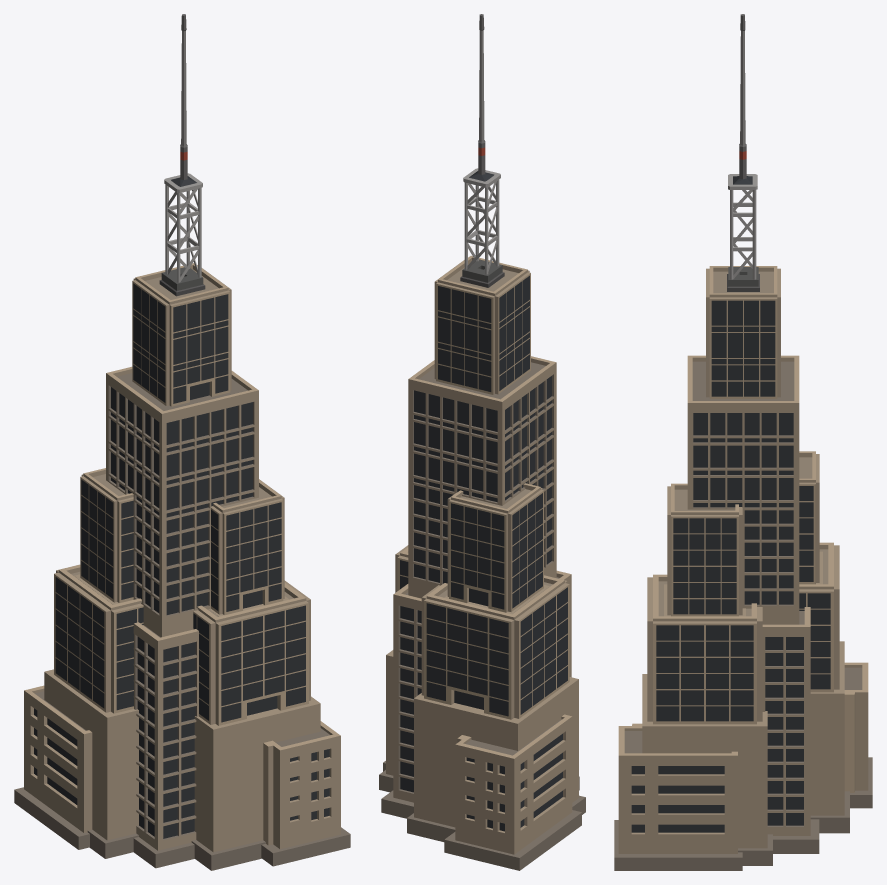
File: SM_Bld_LargeBuilding_01.fbx
3 renders of one model, left to right at view 1: azimuth 30°, elevation 25°; view 2: azimuth 150°, elevation 25°; view 3: azimuth 270°, elevation 25°, orthographic. The views are drawn at different scales.
Visible parts, largest first — view 1: SM_Bld_LargeBuilding_01; view 2: SM_Bld_LargeBuilding_01; view 3: SM_Bld_LargeBuilding_01.
Boxes of the visible parts, x1=… form: SM_Bld_LargeBuilding_01: x1=14, y1=14, x2=350, y2=870; SM_Bld_LargeBuilding_01: x1=379, y1=14, x2=585, y2=870; SM_Bld_LargeBuilding_01: x1=614, y1=14, x2=872, y2=870.
Size of the model in its own units: 144 by 541 by 157.
